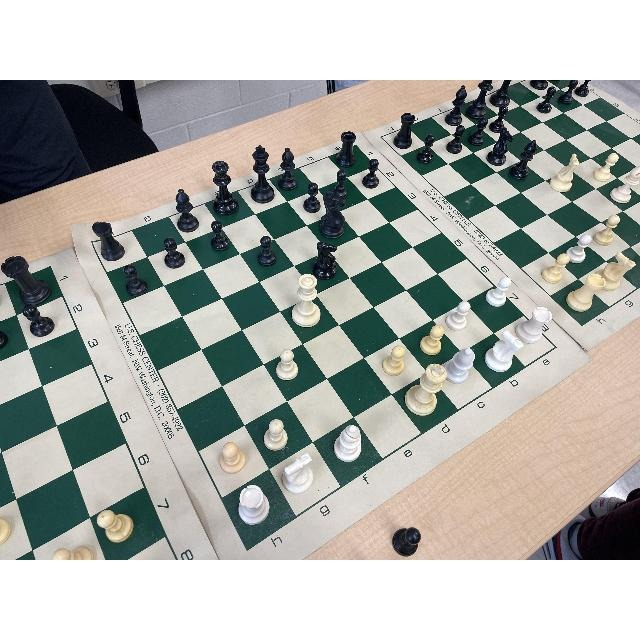black-bishop: (169, 188, 202, 231), (510, 138, 538, 182), (276, 147, 301, 189), (444, 84, 467, 126)
black-king: (248, 140, 278, 205), (491, 80, 512, 107)
black-knight: (320, 194, 347, 242), (488, 127, 514, 169), (313, 241, 341, 279), (529, 80, 548, 88)
black-pawn: (21, 304, 57, 339), (122, 263, 152, 297), (160, 236, 188, 270), (361, 157, 382, 191), (210, 222, 232, 254), (257, 235, 279, 265), (302, 180, 321, 214), (468, 118, 490, 146), (416, 133, 435, 165), (488, 105, 508, 135), (446, 124, 465, 155), (535, 86, 556, 114), (558, 80, 577, 106), (332, 170, 350, 197), (575, 80, 595, 99)
black-queen: (206, 158, 240, 217), (471, 80, 493, 116)
black-rook: (0, 254, 53, 302), (92, 219, 126, 261), (336, 130, 359, 168), (394, 112, 413, 148)
white-bishop: (329, 420, 367, 466), (442, 347, 476, 386), (610, 163, 639, 205)
white-king: (406, 363, 447, 419)
white-knight: (592, 251, 637, 297), (481, 330, 524, 376), (276, 451, 316, 495), (547, 154, 579, 194)
white-pawn: (95, 509, 137, 543), (217, 440, 251, 475), (592, 211, 621, 252), (539, 252, 573, 284), (484, 274, 516, 307), (262, 418, 290, 452), (592, 151, 620, 185), (567, 229, 593, 265), (381, 344, 406, 378), (274, 349, 300, 381), (419, 324, 445, 356), (446, 298, 470, 332), (49, 544, 96, 559)
white-queen: (291, 273, 325, 331)
white-rook: (232, 484, 274, 528), (564, 272, 606, 314), (515, 302, 551, 348)
